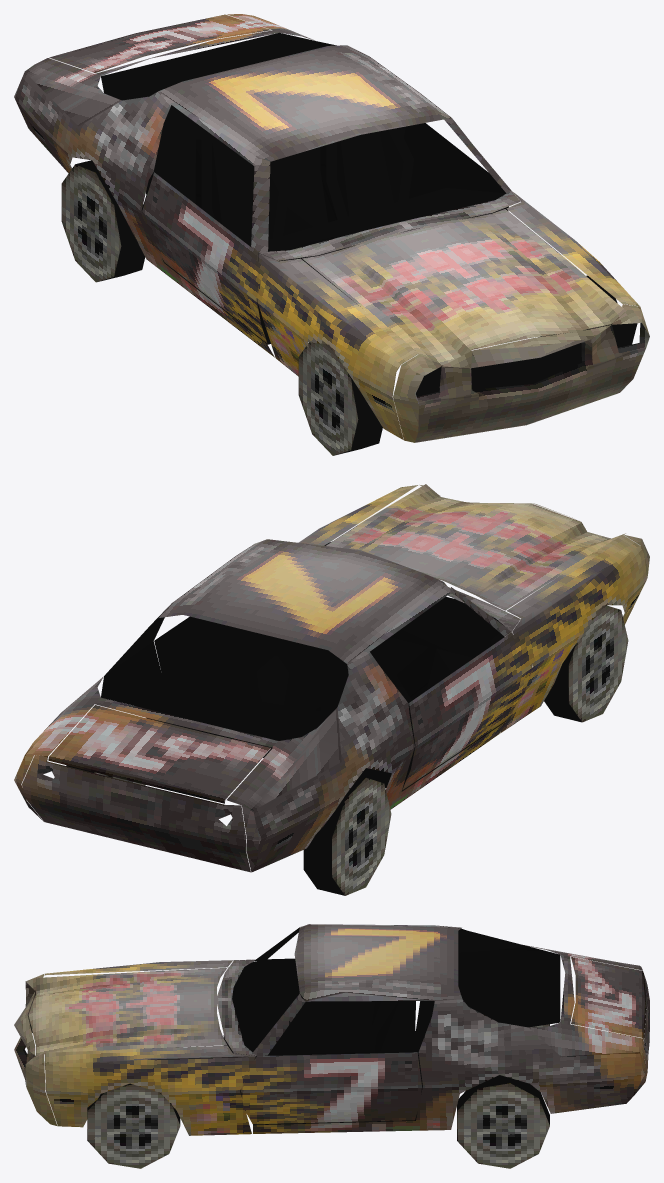
The model's file is ps2_save-icons_testdriveeveofdestruction.glb.
3 renders of one model, top to bottom at view 1: azimuth 30°, elevation 25°; view 2: azimuth 150°, elevation 25°; view 3: azimuth 270°, elevation 25°, orthographic. The views are drawn at different scales.
Parts seen in each view (by area): view 1: mem_icon.ico; view 2: mem_icon.ico; view 3: mem_icon.ico.
Boxes of the visible parts, x1=… form: mem_icon.ico: x1=14, y1=14, x2=649, y2=455; mem_icon.ico: x1=14, y1=484, x2=649, y2=895; mem_icon.ico: x1=14, y1=924, x2=649, y2=1168.
Size of the model in its own units: 1.76 by 1.31 by 4.5.
1 material, 1 textured.
